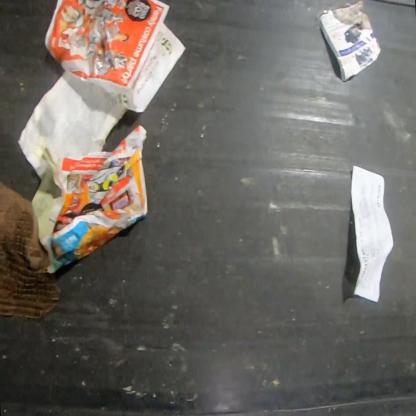cardboard: (0, 181, 62, 321)
